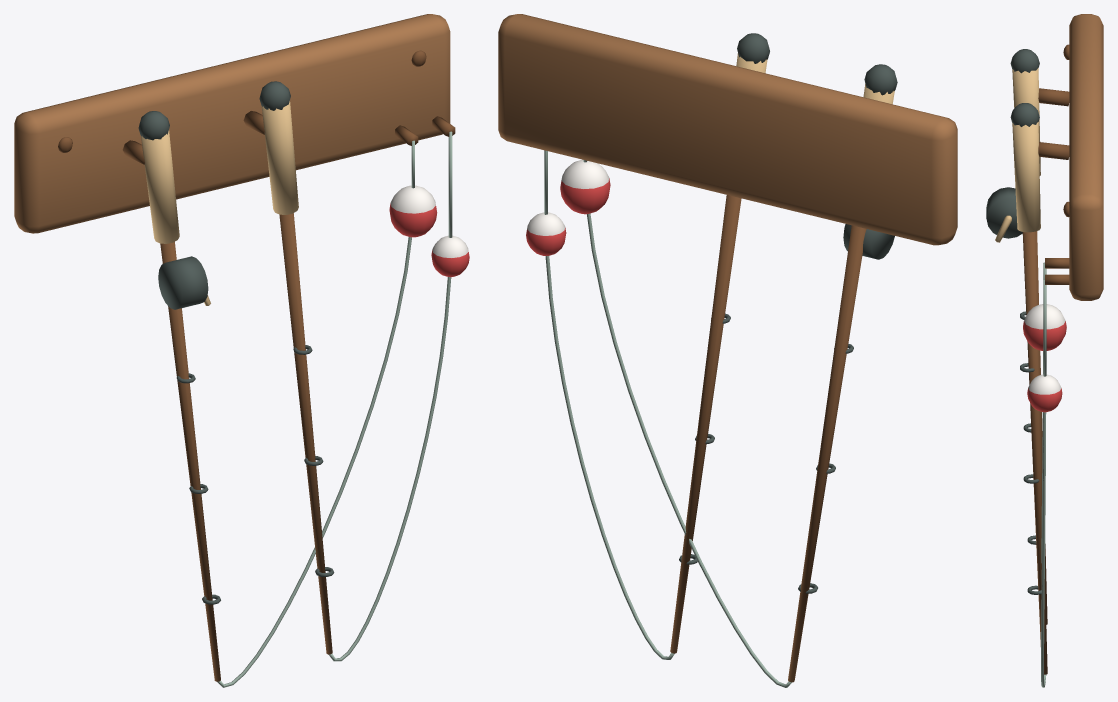
Rendered from rod-rack.glb.
3 renders of one model, left to right at view 1: azimuth 30°, elevation 25°; view 2: azimuth 150°, elevation 25°; view 3: azimuth 270°, elevation 25°, orthographic. The views are drawn at different scales.
Parts seen in each view (by area): view 1: rack; view 2: rack; view 3: rack.
Part boxes in pixels (x1,y1,x2,y2): rack: [14, 14, 469, 687]; rack: [498, 14, 957, 687]; rack: [986, 14, 1103, 687].
Size of the model in its own units: 0.92 by 1.24 by 0.2393.
